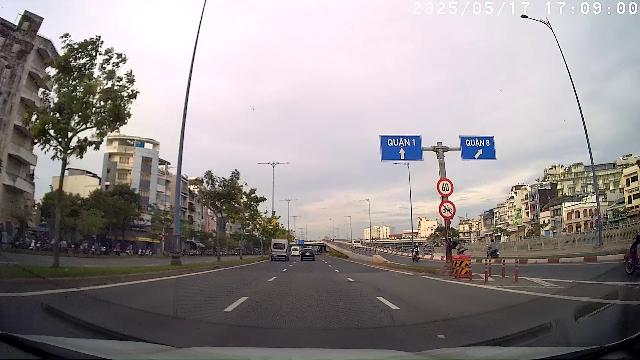127-toc-do-toi-da-60: (436, 178, 454, 198)
